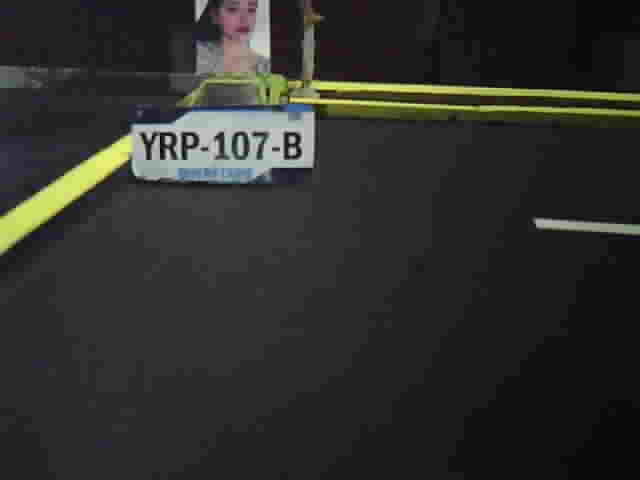PLACA: (129, 102, 321, 191)
ROSTRO: (195, 1, 270, 74)
